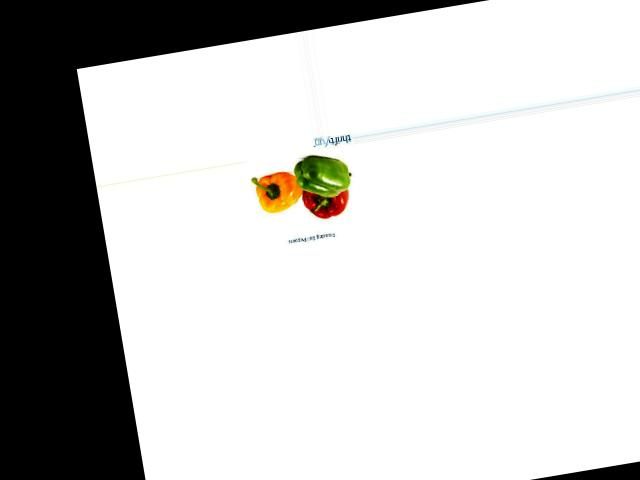bell_pepper: (287, 144, 355, 202)
